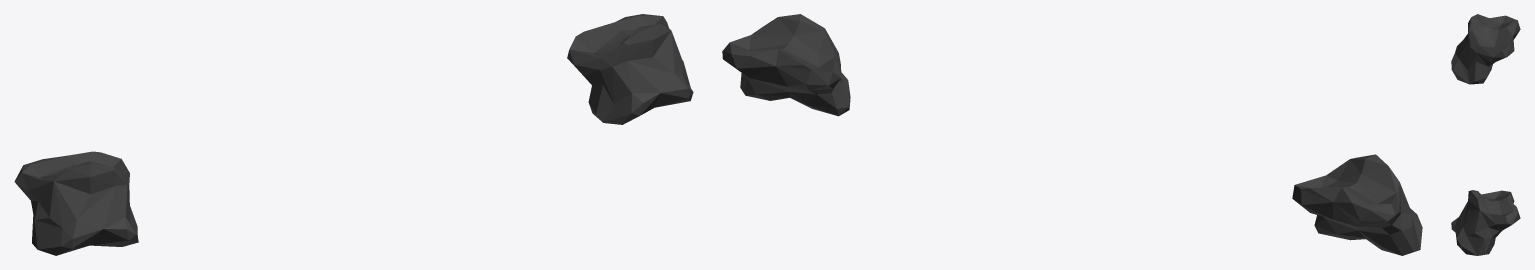
The model's file is skel_HL_phalanx_middle.glb.
The picture shows the model from 3 angles, left to right: view 1: azimuth 30°, elevation 25°; view 2: azimuth 150°, elevation 25°; view 3: azimuth 270°, elevation 25°; orthographic projection. The views are drawn at different scales.
Visible parts, largest first — view 1: skel_HL_phalanx_middle; view 2: skel_HL_phalanx_middle; view 3: skel_HL_phalanx_middle.
Boxes of the visible parts, bbox=[...] form: skel_HL_phalanx_middle: bbox=[14, 14, 693, 255]; skel_HL_phalanx_middle: bbox=[722, 14, 1422, 255]; skel_HL_phalanx_middle: bbox=[1451, 14, 1520, 255].
Size of the model in its own units: 0.00598 by 0.000767 by 0.000857.
Materials: 1 (1 with a texture image).
